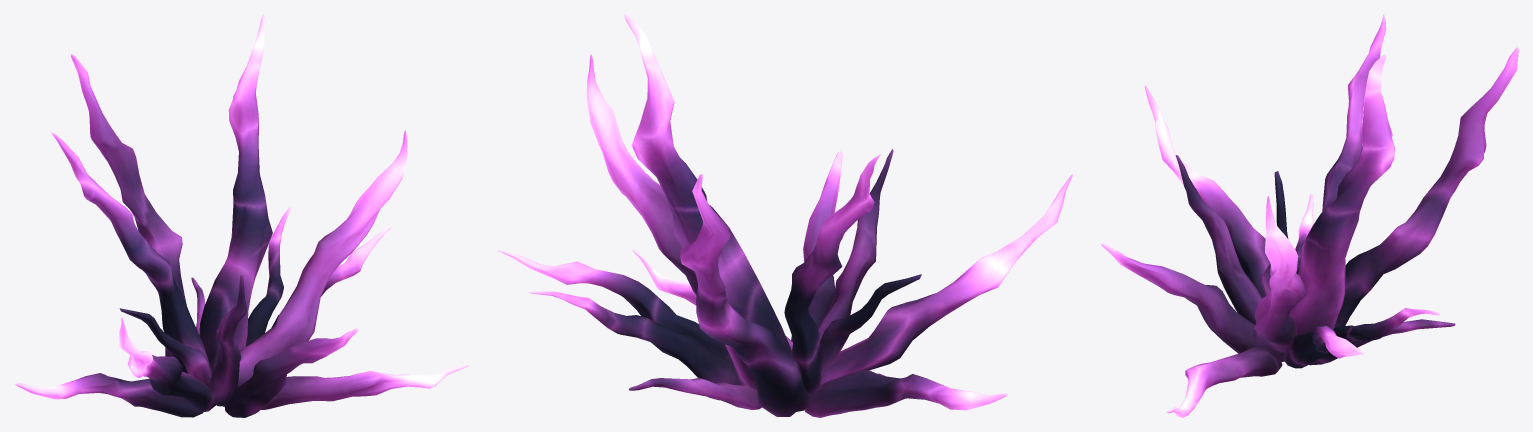
Rendered from caos_drs_chaosbush_01b_v35.glb.
The picture shows the model from 3 angles, left to right: view 1: azimuth 30°, elevation 25°; view 2: azimuth 150°, elevation 25°; view 3: azimuth 270°, elevation 25°; orthographic projection. The views are drawn at different scales.
Parts seen in each view (by area): view 1: caos_drs_chaosbush_01b; view 2: caos_drs_chaosbush_01b; view 3: caos_drs_chaosbush_01b.
Part boxes in pixels (x1,y1,x2,y2): caos_drs_chaosbush_01b: (15,14,468,417); caos_drs_chaosbush_01b: (497,14,1072,417); caos_drs_chaosbush_01b: (1101,14,1518,417).
Size of the model in its own units: 1.93 by 1.56 by 1.68.
Materials: 1 (1 with a texture image).
